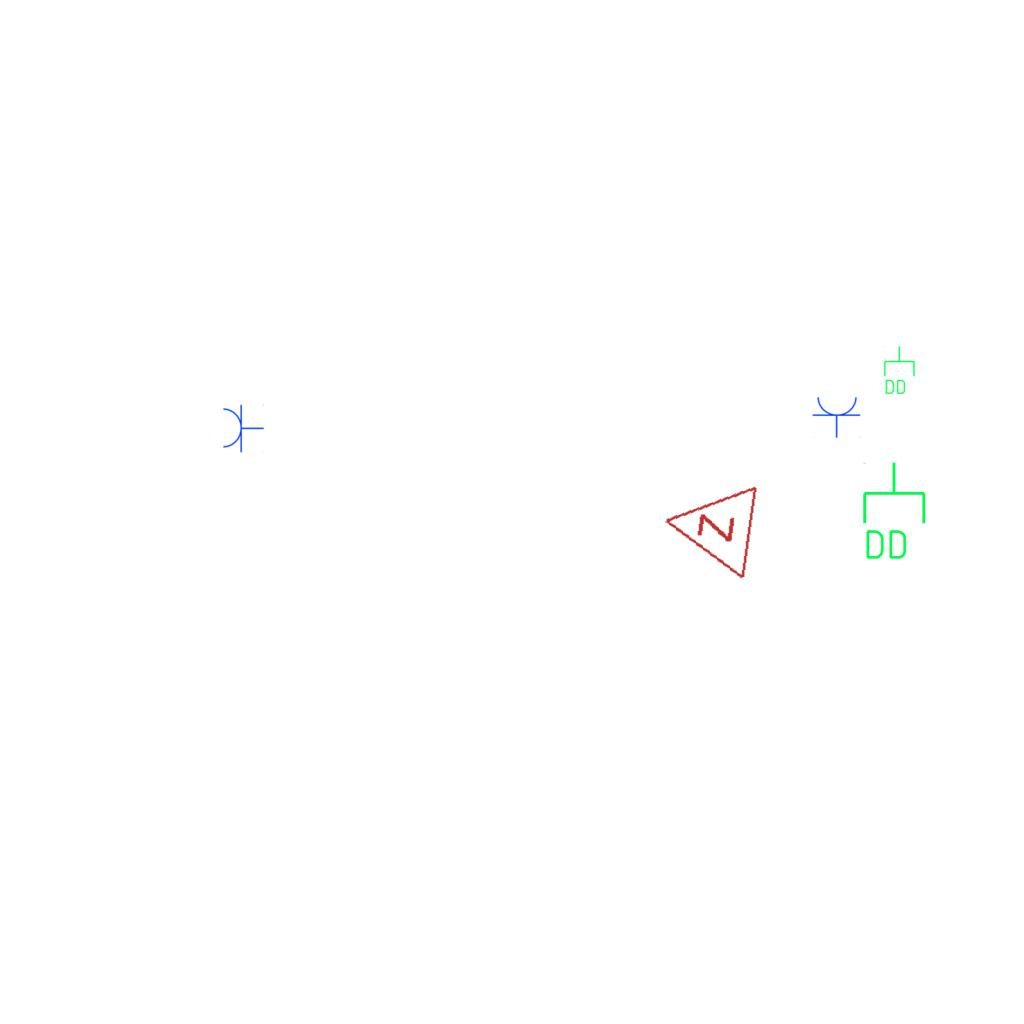Datenanschluss_zweifach: (859, 460, 928, 563), (882, 345, 916, 396)
Schukosteckdose_einfach: (812, 395, 862, 438), (221, 403, 264, 453)
Zimmersignalleuchte: (651, 472, 765, 584)
